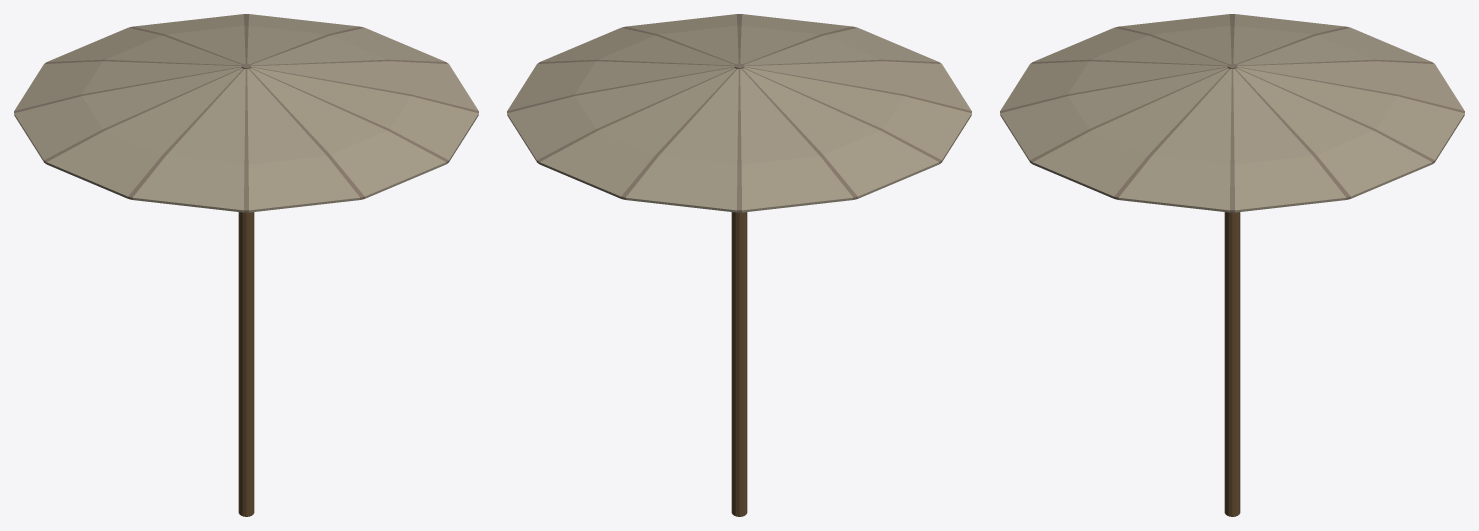
File: Umbrella_3.fbx
The picture shows the model from 3 angles, left to right: view 1: azimuth 30°, elevation 25°; view 2: azimuth 150°, elevation 25°; view 3: azimuth 270°, elevation 25°; orthographic projection.
Parts seen in each view (by area): view 1: Umbrella_3; view 2: Umbrella_3; view 3: Umbrella_3.
Boxes of the visible parts, x1=… form: Umbrella_3: x1=14, y1=14, x2=478, y2=516; Umbrella_3: x1=507, y1=14, x2=971, y2=516; Umbrella_3: x1=1000, y1=14, x2=1464, y2=516.
Bounding box in the file's own units: 72.24 × 76.94 × 72.24.
